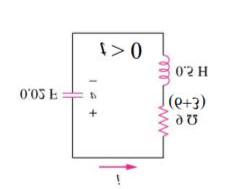Capacitor: (58, 82, 84, 106)
